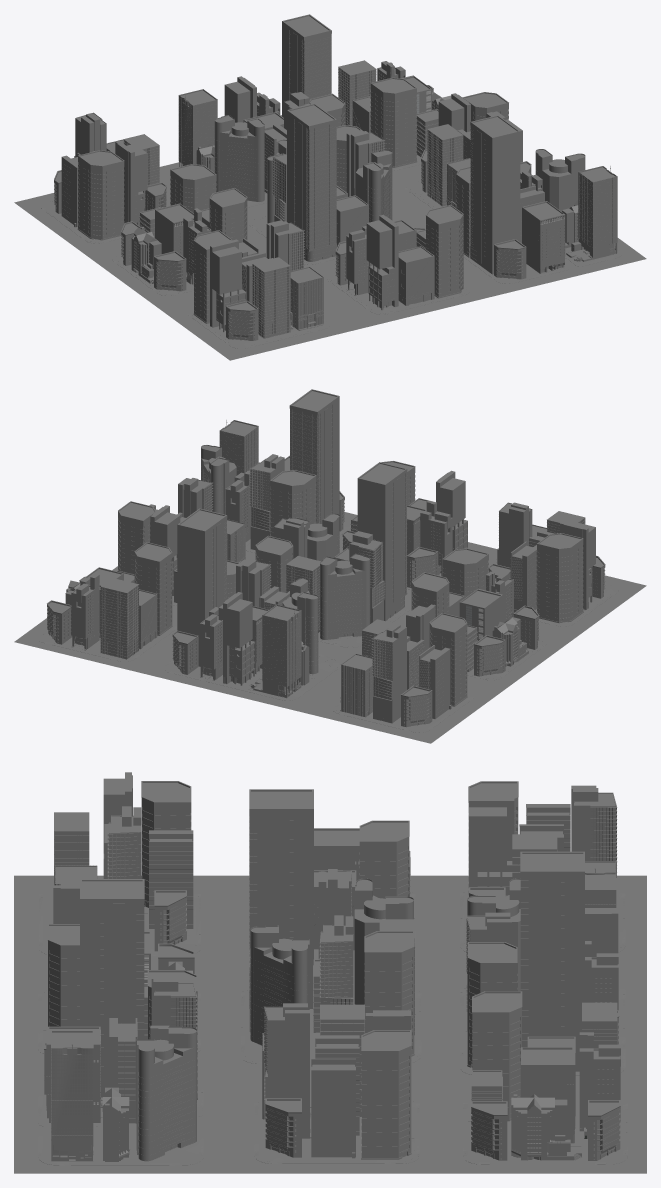
Rendered from Kakao_08_PanGyo.fbx.
3 renders of one model, top to bottom at view 1: azimuth 30°, elevation 25°; view 2: azimuth 150°, elevation 25°; view 3: azimuth 270°, elevation 25°, orthographic. The views are drawn at different scales.
Parts seen in each view (by area): view 1: Land_01, building_16_002, building_16_003, Building_03_01, building_16_01, Building_10_01, Building_09_02, Building_03_009, Building_03_008, Building_02_008, Building_12_005, Building_05_011 (+49 smaller); view 2: Land_01, building_16_01, building_16_002, building_16_003, Building_10_005, Building_03_007, Building_09_01, Building_04_01, Building_02_006, Building_05_02, Building_03_009, Building_03_010 (+49 smaller); view 3: Land_01, building_16_01, building_16_003, building_16_002, Building_10_007, Building_03_004, Line_01, Building_09_02, Building_10_006, Building_04_011, Building_03_009, Building_07_002 (+54 smaller).
Part boxes in pixels (x1,y1,x2,y2): Land_01: (14,162,646,360); building_16_002: (287,103,336,261); building_16_003: (470,115,520,274); Building_03_01: (77,150,124,240); building_16_01: (282,14,331,117); Building_10_01: (214,115,264,201); Building_09_02: (566,166,617,263); Building_03_009: (370,77,417,167); Building_03_008: (426,204,463,298); Building_02_008: (252,257,290,338); Building_12_005: (522,201,565,273); Building_05_011: (366,215,398,310); Land_01: (14,512,646,743); building_16_01: (177,508,227,666); building_16_002: (357,462,407,621); building_16_003: (289,389,339,523); Building_10_005: (320,553,370,639); Building_03_007: (537,533,583,623); Building_09_01: (247,604,301,698); Building_04_01: (371,623,406,723); Building_02_006: (100,578,138,659); Building_05_02: (223,592,255,685); Building_03_009: (134,542,172,635); Building_03_010: (270,470,316,536); Land_01: (14,875,646,1173); building_16_01: (520,851,584,1071); building_16_003: (80,879,144,1098); building_16_002: (249,789,313,1008); Building_10_007: (136,1026,197,1161); Building_03_004: (361,1030,411,1159); Line_01: (14,875,646,1173); Building_09_02: (49,1030,93,1161); Building_10_006: (250,925,309,1045); Building_04_011: (264,1003,311,1138); Building_03_009: (472,991,522,1120); Building_07_002: (311,1058,355,1158).
Size of the model in its own units: 46148 by 14521 by 41420.
